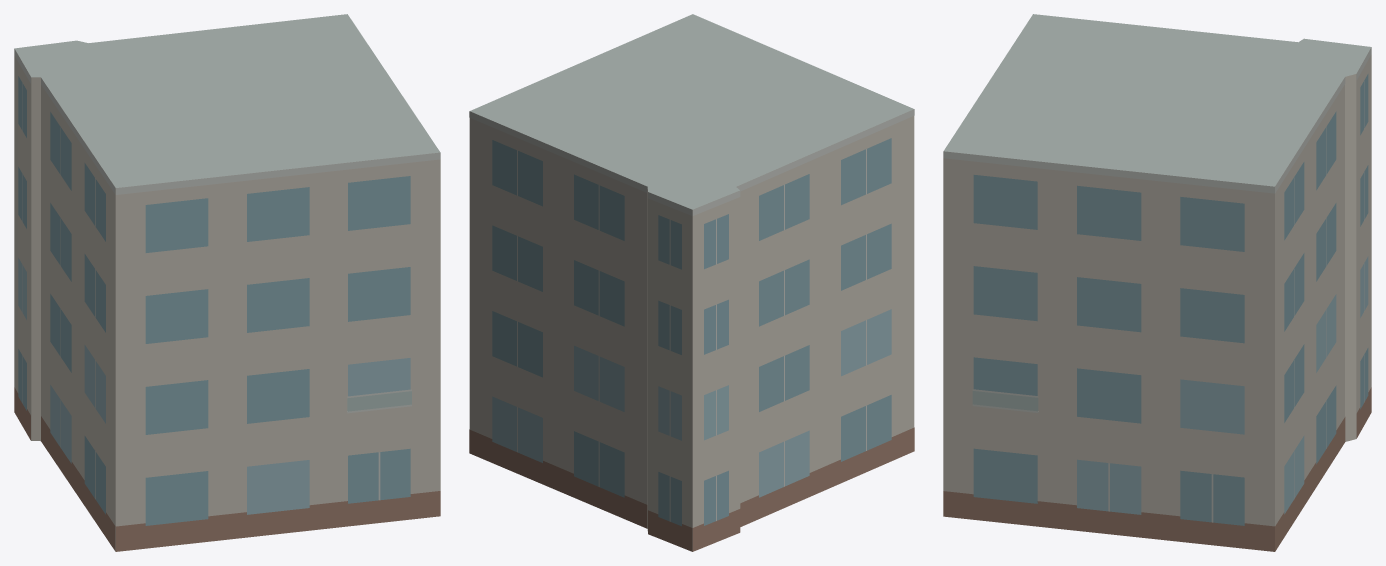
The model's file is survey-upis-32872528.glb.
The picture shows the model from 3 angles, left to right: view 1: azimuth 30°, elevation 25°; view 2: azimuth 150°, elevation 25°; view 3: azimuth 270°, elevation 25°; orthographic projection. The views are drawn at different scales.
Parts seen in each view (by area): view 1: survey-upis-32872528.tmp; view 2: survey-upis-32872528.tmp; view 3: survey-upis-32872528.tmp.
Boxes of the visible parts, x1,y1,x2,y2 form: survey-upis-32872528.tmp: (14,14,440,551); survey-upis-32872528.tmp: (469,14,914,551); survey-upis-32872528.tmp: (943,14,1371,551).
Bounding box in the file's own units: 12.99 × 12.8 × 13.61.
